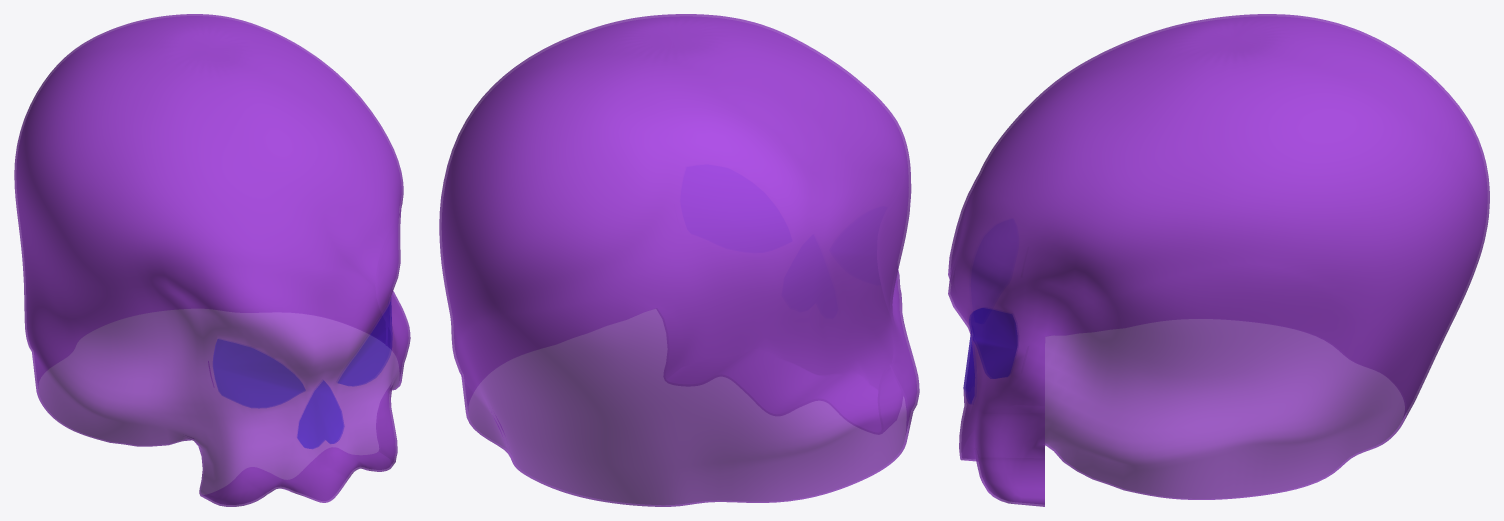
The model's file is Projectile.fbx.
3 views of the same model, side by side, from view 1: azimuth 30°, elevation 25°; view 2: azimuth 150°, elevation 25°; view 3: azimuth 270°, elevation 25° (orthographic). The views are drawn at different scales.
Visible parts, largest first — view 1: Skull Projectile; view 2: Skull Projectile; view 3: Skull Projectile.
Part boxes in pixels (x1,y1,x2,y2): Skull Projectile: [14, 14, 410, 506]; Skull Projectile: [439, 14, 919, 506]; Skull Projectile: [948, 14, 1489, 506].
Bounding box in the file's own units: 192 × 237 × 207.
